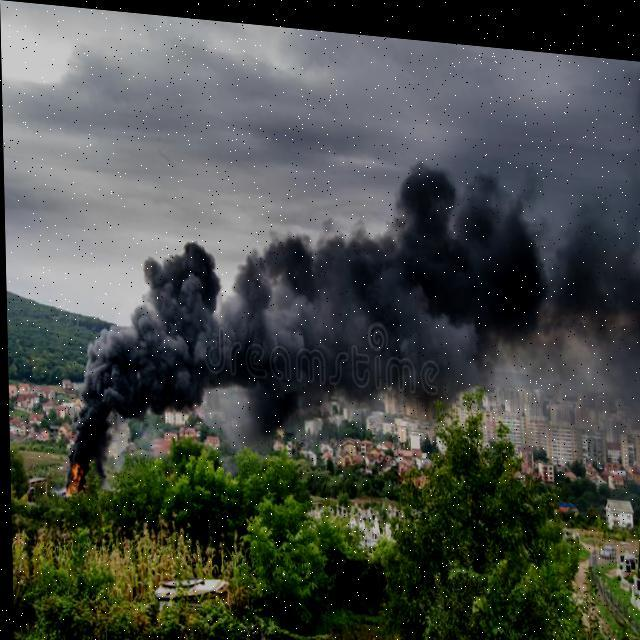Fire: (54, 446, 91, 504)
